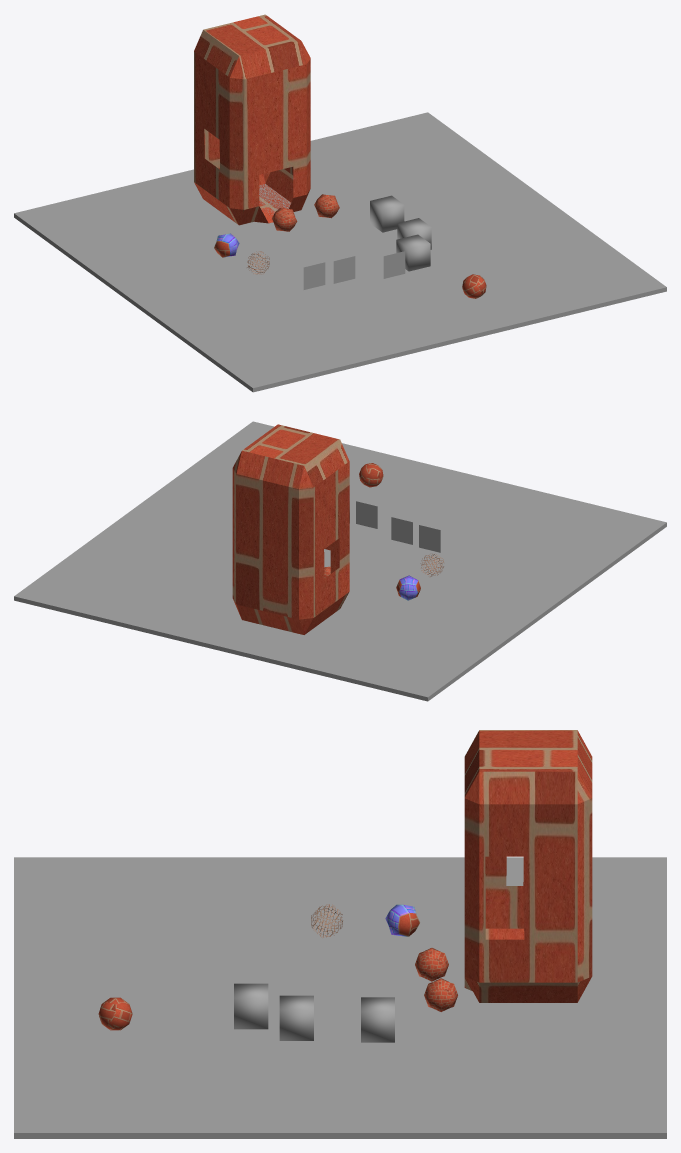
File: cuboPowerblend.obj
The picture shows the model from 3 angles, top to bottom: view 1: azimuth 30°, elevation 25°; view 2: azimuth 150°, elevation 25°; view 3: azimuth 270°, elevation 25°; orthographic projection. The views are drawn at different scales.
Parts seen in each view (by area): view 1: Cube.004_Cube.003, Cube.005_Cube.004, Cube.001_Cube, Cube.003_Cube.002, Cube.002_Cube.001; view 2: Cube.004_Cube.003, Cube.005_Cube.004, Plane, Plane.001, Plane.002, Icosphere, root_deforme; view 3: Cube.004_Cube.003, Cube.005_Cube.004, Cube.003_Cube.002, Cube.002_Cube.001, Cube.001_Cube, Icosphere, root_deforme, NORMAL_MAPPING.001, NORMAL_MAPPING.
Boxes of the visible parts, <box> form: Cube.004_Cube.003: <box>14,112,666,392</box>; Cube.005_Cube.004: <box>194,14,310,225</box>; Cube.001_Cube: <box>370,195,404,232</box>; Cube.003_Cube.002: <box>396,234,430,271</box>; Cube.002_Cube.001: <box>397,218,431,249</box>; Cube.004_Cube.003: <box>14,421,666,701</box>; Cube.005_Cube.004: <box>232,424,349,634</box>; Plane: <box>391,517,412,544</box>; Plane.001: <box>356,501,377,528</box>; Plane.002: <box>419,525,440,552</box>; Icosphere: <box>359,463,383,487</box>; root_deforme: <box>396,575,420,600</box>; Cube.004_Cube.003: <box>14,857,666,1138</box>; Cube.005_Cube.004: <box>464,730,592,1002</box>; Cube.003_Cube.002: <box>234,983,268,1029</box>; Cube.002_Cube.001: <box>279,995,313,1040</box>; Cube.001_Cube: <box>361,997,394,1042</box>; Icosphere: <box>98,997,132,1030</box>; root_deforme: <box>385,904,419,936</box>; NORMAL_MAPPING.001: <box>424,978,457,1011</box>; NORMAL_MAPPING: <box>415,948,448,981</box>.
Bounding box in the file's own units: 102 × 41 × 102.
9 materials, 6 textured.
